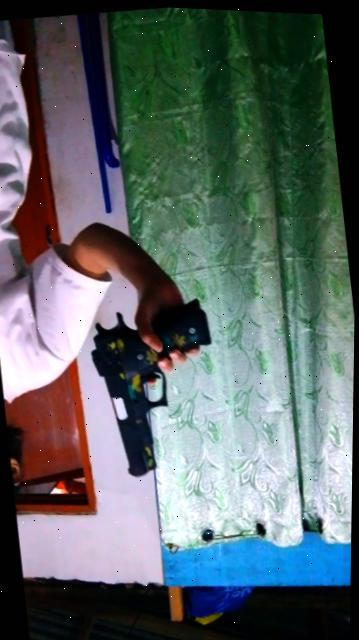pistol: (81, 295, 248, 487)
